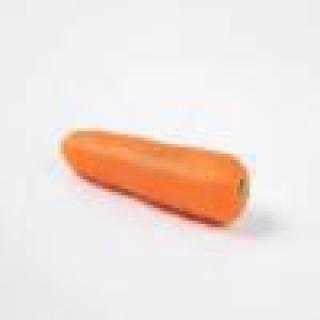Wortel: (39, 113, 286, 260)
